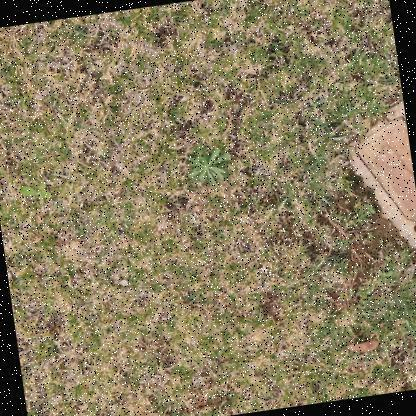Weeds: (184, 143, 234, 191), (18, 181, 53, 207), (375, 266, 395, 287), (354, 285, 372, 300), (364, 201, 376, 217)
